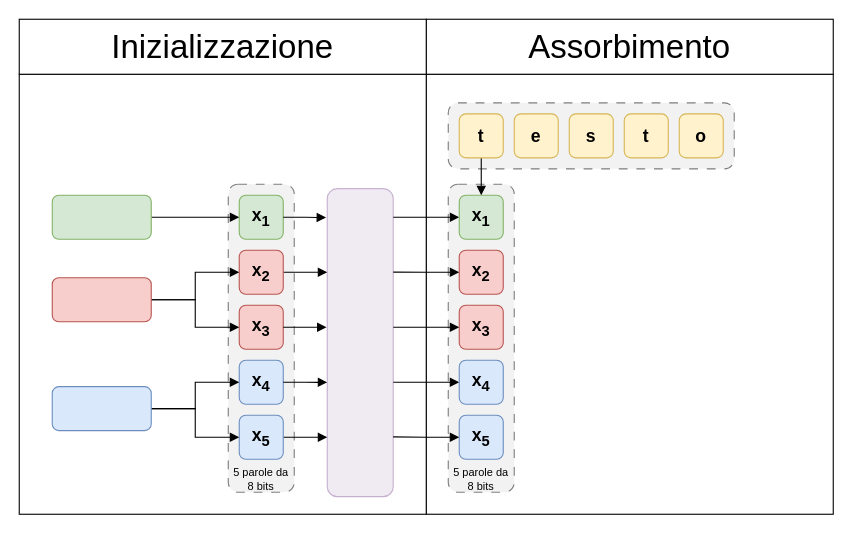
The diagram is 853 pixels wide and 534 high, and some of its shapes have lost their labels. Here are the shapes that lost their labels. From the top down, the box of each, then its label:
(51, 194, 151, 239): IV (8 bits)
(51, 277, 151, 322): Key (16 bits)
(326, 188, 393, 497): 12 Round di warm-up
(51, 386, 151, 431): Nonce (16 bits)
